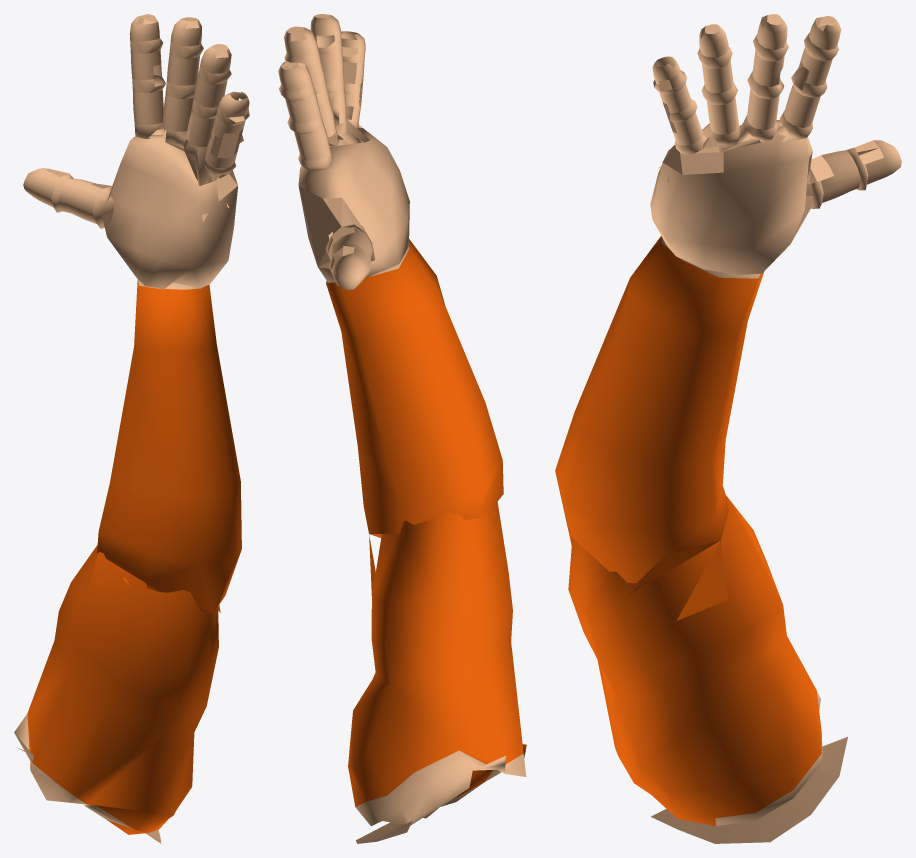
File: leftarmColored.fbx
3 renders of one model, left to right at view 1: azimuth 30°, elevation 25°; view 2: azimuth 150°, elevation 25°; view 3: azimuth 270°, elevation 25°, orthographic. The views are drawn at different scales.
Parts seen in each view (by area): view 1: ImprovedLeftArm; view 2: ImprovedLeftArm; view 3: ImprovedLeftArm.
Boxes of the visible parts, <box> form: ImprovedLeftArm: <box>14,14,249,843</box>; ImprovedLeftArm: <box>278,14,526,843</box>; ImprovedLeftArm: <box>555,14,901,843</box>.
Size of the model in its own units: 1069 by 4037 by 1479.
